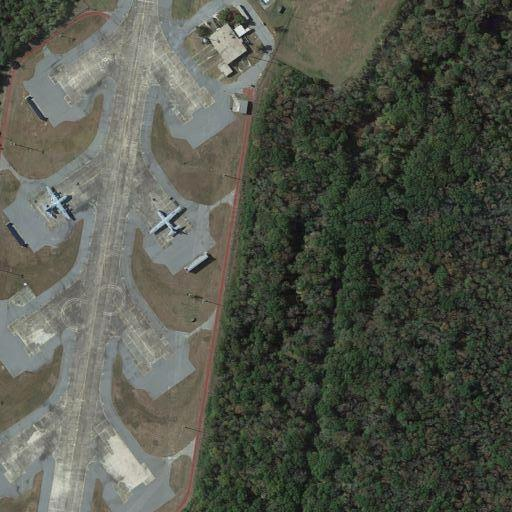C-130: (144, 200, 186, 242), (37, 182, 76, 227)
